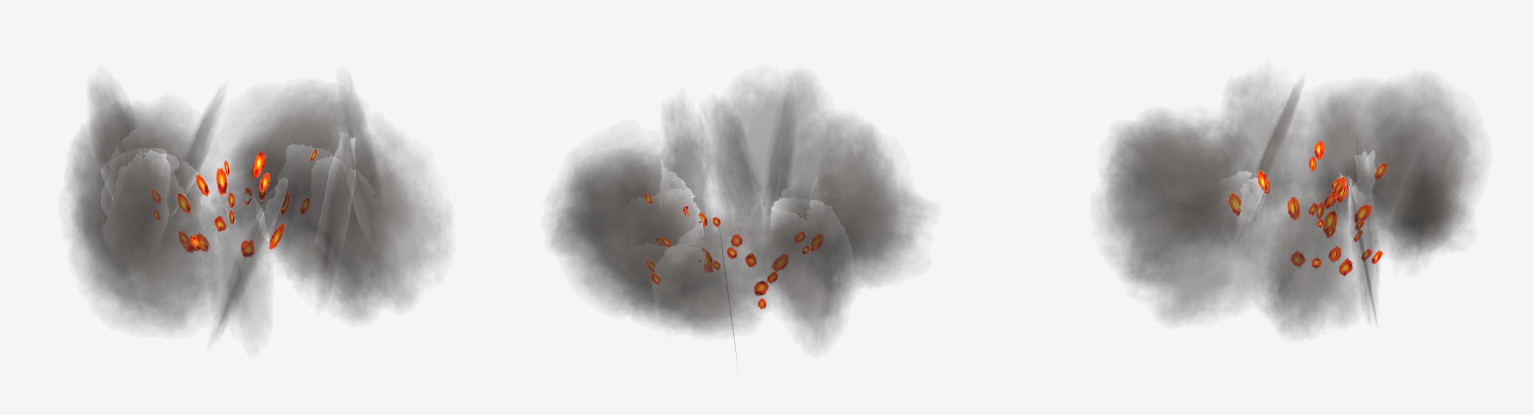
The model's file is bomb_splash.glb.
3 renders of one model, left to right at view 1: azimuth 30°, elevation 25°; view 2: azimuth 150°, elevation 25°; view 3: azimuth 270°, elevation 25°, orthographic. The views are drawn at different scales.
Size of the model in its own units: 9.72 by 6.48 by 9.72.
2 materials, 2 textured.
